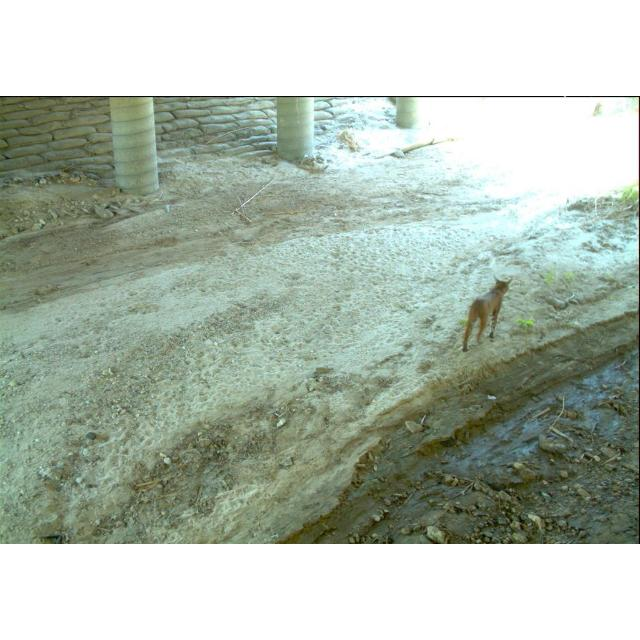animals: (461, 274, 515, 354)
